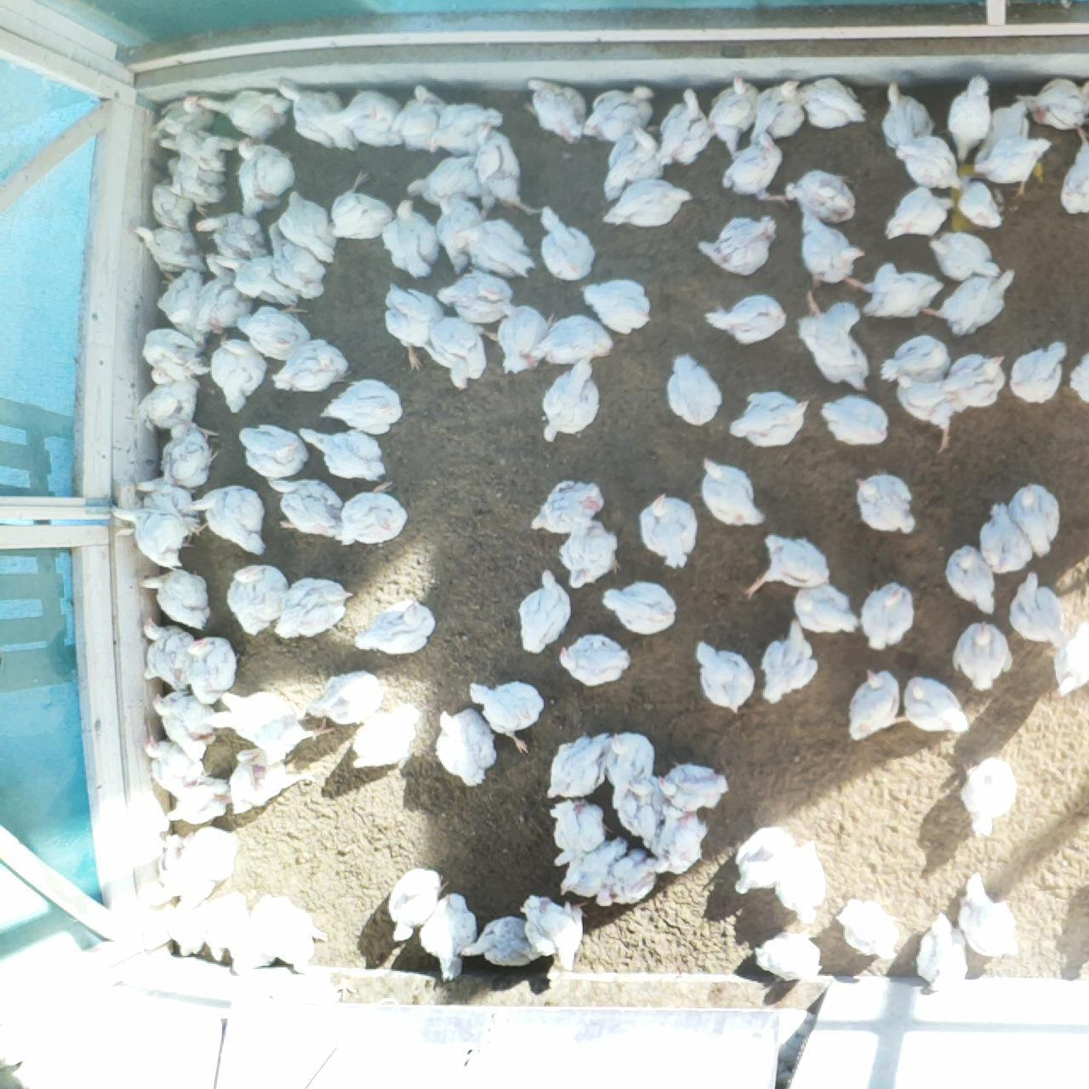chicken: (795, 288, 874, 395), (218, 693, 335, 762), (470, 121, 547, 219), (921, 267, 1022, 337), (740, 532, 831, 602), (108, 502, 201, 570), (538, 352, 604, 445), (469, 678, 547, 756), (425, 316, 504, 393), (844, 264, 944, 324), (213, 251, 309, 313), (152, 688, 230, 764), (230, 749, 320, 814), (276, 79, 355, 153), (383, 282, 446, 374), (955, 871, 1021, 958), (792, 211, 864, 290), (894, 371, 961, 455), (136, 377, 220, 443), (418, 892, 478, 984), (522, 311, 612, 372), (696, 211, 779, 277), (188, 486, 265, 557), (720, 130, 791, 207), (400, 152, 496, 208), (192, 252, 256, 336), (265, 893, 330, 975), (450, 217, 534, 280), (323, 85, 403, 151), (273, 576, 355, 640), (234, 137, 296, 221), (758, 619, 819, 704), (322, 171, 395, 242), (602, 124, 668, 202), (653, 86, 717, 166), (199, 89, 292, 144), (543, 729, 615, 800), (349, 702, 423, 771), (381, 197, 444, 278), (959, 753, 1019, 838), (975, 134, 1052, 200), (434, 707, 498, 786), (871, 332, 955, 392), (520, 895, 585, 972), (297, 427, 386, 483), (700, 454, 768, 527), (266, 479, 346, 541), (515, 567, 572, 654), (137, 567, 212, 633), (434, 265, 515, 326), (318, 377, 403, 435), (431, 193, 491, 275), (458, 915, 549, 969), (731, 825, 799, 897), (535, 205, 599, 281), (727, 387, 808, 447), (773, 837, 828, 925), (638, 493, 700, 571), (496, 300, 557, 379), (386, 867, 448, 944), (226, 563, 289, 638), (209, 335, 268, 415), (138, 616, 197, 696), (557, 836, 629, 901), (549, 795, 614, 867), (694, 639, 754, 717), (133, 477, 208, 539), (352, 598, 435, 654), (130, 223, 206, 284), (1008, 570, 1067, 648), (558, 517, 621, 590), (269, 338, 351, 394), (914, 911, 970, 993), (709, 74, 762, 160), (339, 480, 408, 546), (602, 178, 693, 228), (276, 192, 340, 263), (942, 352, 1013, 416), (268, 221, 326, 299), (664, 353, 724, 428), (946, 74, 995, 165), (236, 304, 311, 363), (519, 77, 585, 144), (702, 294, 787, 346), (647, 807, 711, 876), (950, 621, 1013, 691), (155, 268, 210, 348), (581, 86, 661, 141), (599, 580, 678, 635), (1005, 483, 1062, 559), (556, 633, 633, 689), (783, 168, 857, 226), (976, 502, 1034, 576), (881, 184, 956, 241), (159, 420, 218, 492), (529, 478, 606, 533), (844, 669, 901, 743), (427, 102, 506, 155), (878, 80, 935, 153), (388, 87, 451, 153), (972, 98, 1032, 167), (191, 212, 270, 264), (237, 422, 309, 479), (578, 278, 650, 335), (592, 849, 661, 908), (601, 732, 655, 807), (819, 392, 894, 446), (228, 893, 276, 977), (147, 734, 208, 800), (895, 133, 962, 193), (749, 74, 808, 142), (925, 230, 1002, 282), (309, 670, 384, 723), (838, 895, 900, 959), (165, 156, 230, 217), (754, 927, 826, 982), (159, 125, 245, 171), (902, 675, 969, 734), (798, 76, 868, 132), (852, 473, 916, 534), (185, 637, 241, 706), (941, 544, 996, 614), (1009, 339, 1070, 402), (143, 329, 212, 384), (659, 762, 731, 813), (614, 773, 666, 843), (793, 582, 859, 637), (1017, 77, 1083, 132), (860, 582, 914, 648), (198, 890, 248, 961), (167, 774, 231, 824), (183, 826, 239, 879), (1052, 618, 1089, 697), (1056, 127, 1089, 214), (954, 175, 1005, 229), (154, 94, 216, 136), (151, 175, 196, 232), (773, 1006, 815, 1067), (161, 902, 206, 956), (164, 839, 201, 896), (174, 871, 219, 910), (1062, 349, 1089, 406), (1073, 74, 1089, 123)
